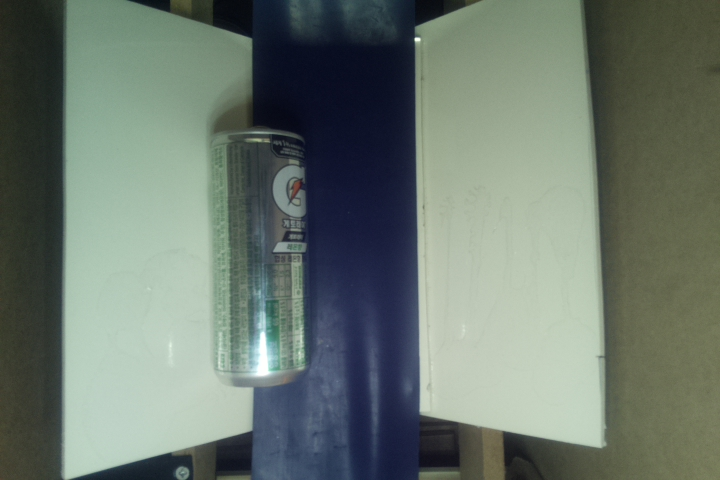can: (211, 128, 308, 391)
